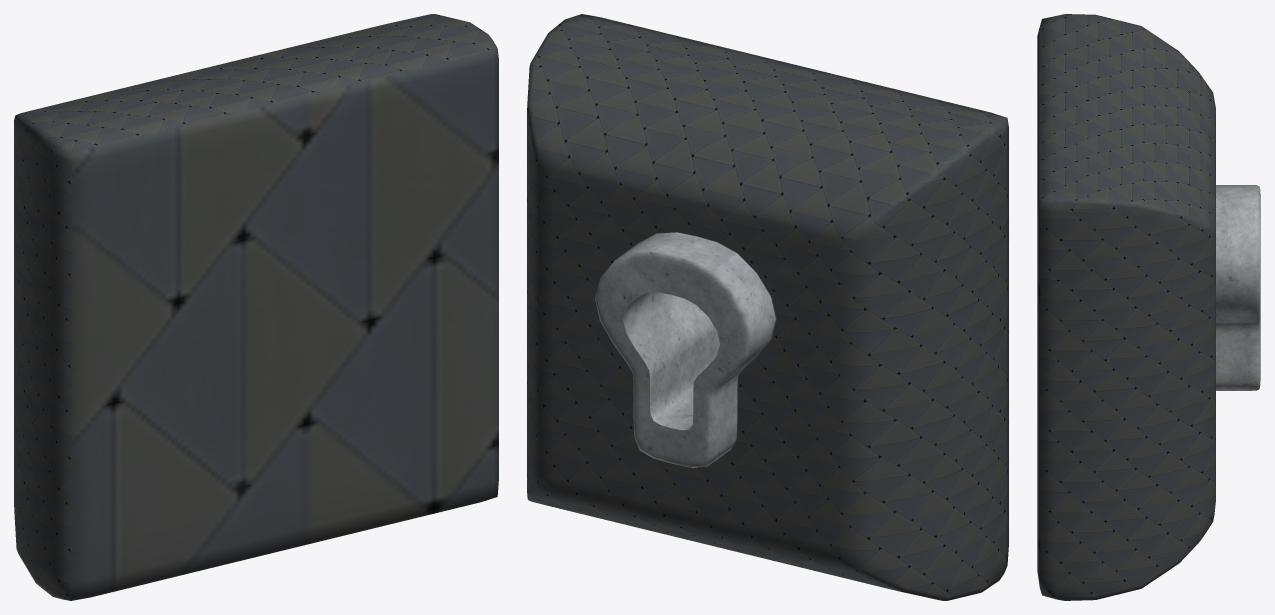
File: Lock.fbx
3 views of the same model, side by side, from view 1: azimuth 30°, elevation 25°; view 2: azimuth 150°, elevation 25°; view 3: azimuth 270°, elevation 25° (orthographic). The views are drawn at different scales.
Parts seen in each view (by area): view 1: Schloss; view 2: Schloss; view 3: Schloss.
Boxes of the visible parts, left/top/right/bottom form: Schloss: left=14, top=14, right=498, bottom=600; Schloss: left=527, top=14, right=1008, bottom=600; Schloss: left=1037, top=14, right=1260, bottom=600.
Bounding box in the file's own units: 9.94 × 9.94 × 5.
1 material, 1 textured.
